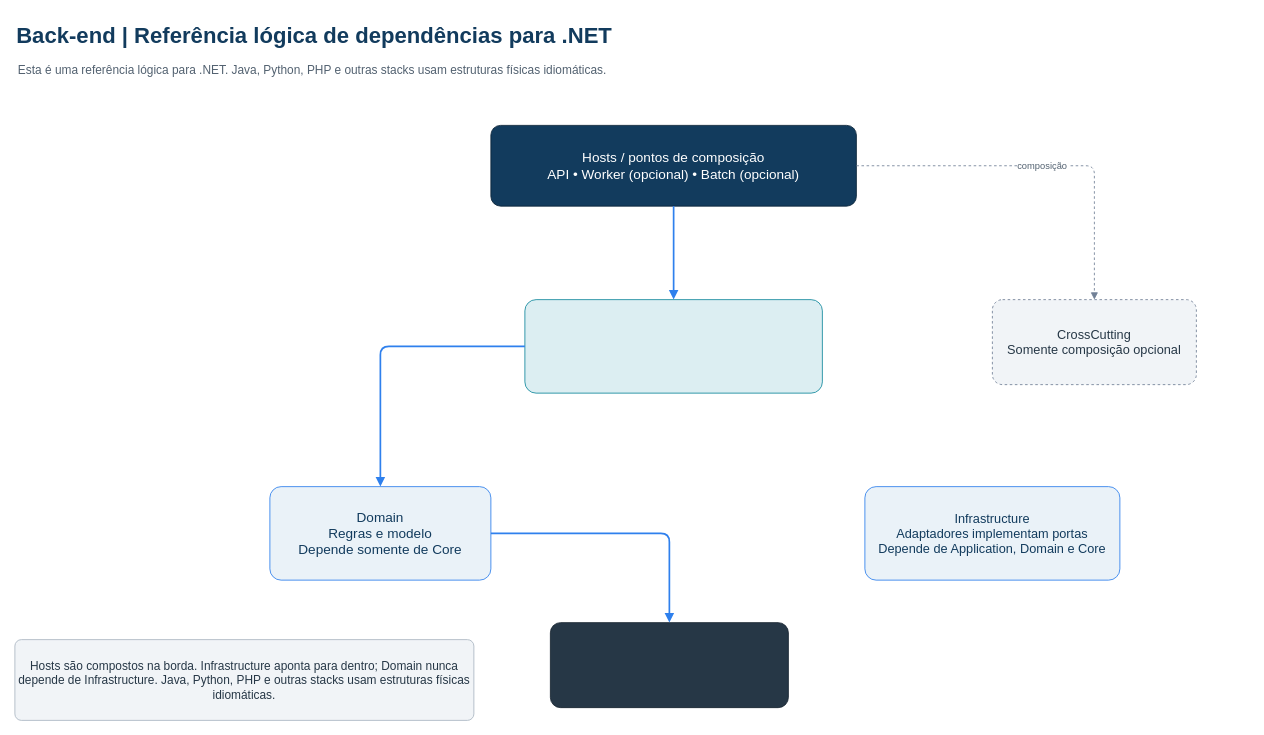
Some shapes in this 1264 by 735 pixel diagram are drawn without their labels. The shapes that lost their labels are listed below. From the top down, each one's box as (x1, y1, x2, y2) in pixels, then its label:
(524, 299, 822, 393): Application Casos de uso e orquestração Depende de Domain e Core
(550, 622, 788, 708): Core Primitivas e contratos neutros
